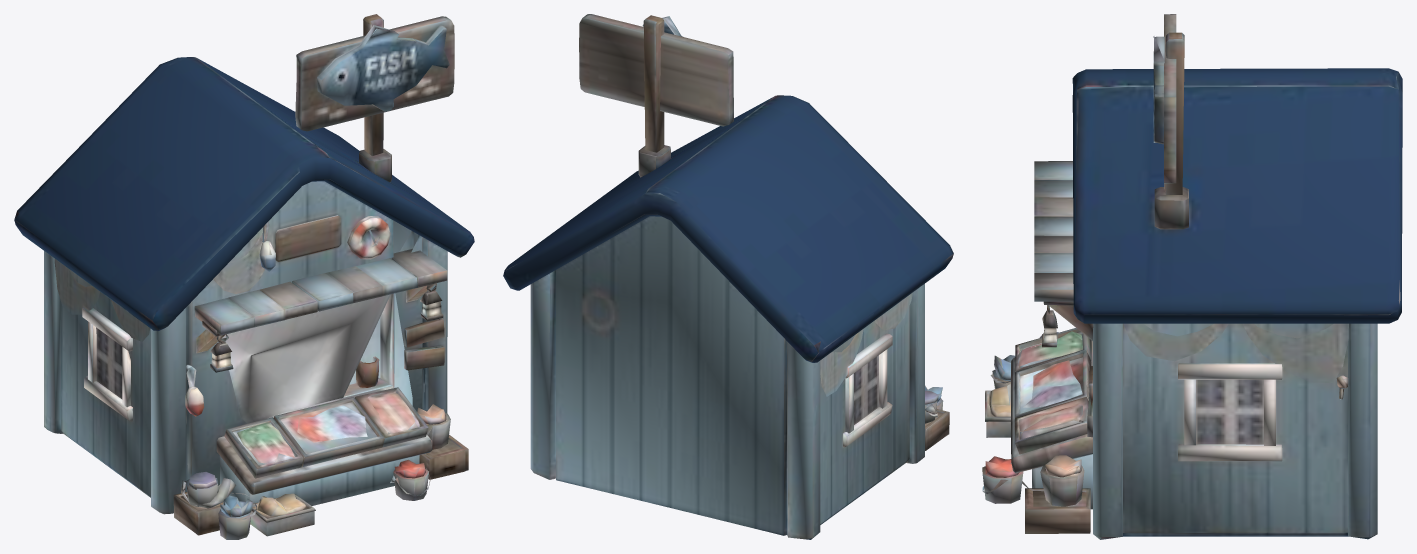
File: fishmarket.glb
3 renders of one model, left to right at view 1: azimuth 30°, elevation 25°; view 2: azimuth 150°, elevation 25°; view 3: azimuth 270°, elevation 25°, orthographic. The views are drawn at different scales.
Bounding box in the file's own units: 0.8257 × 0.9551 × 0.7535.
Materials: 1 (1 with a texture image).
